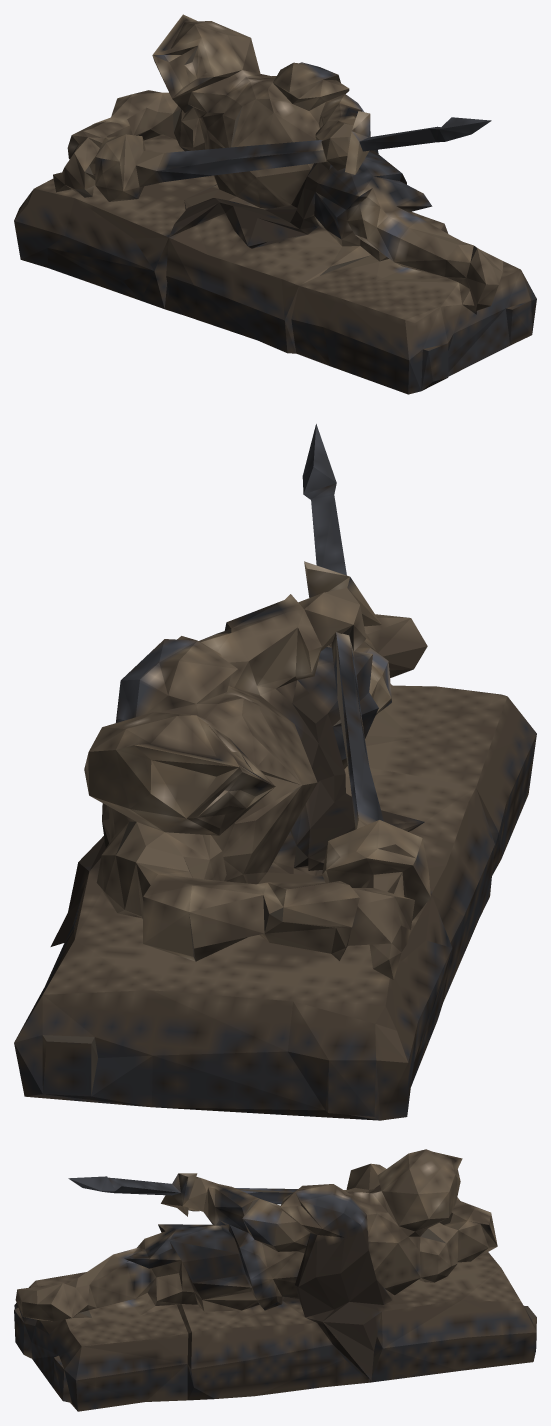
Rendered from SM_MeshyEffigy.fbx.
The picture shows the model from 3 angles, top to bottom: view 1: azimuth 30°, elevation 25°; view 2: azimuth 150°, elevation 25°; view 3: azimuth 270°, elevation 25°; orthographic projection. The views are drawn at different scales.
Parts seen in each view (by area): view 1: SM_MeshyEffigy; view 2: SM_MeshyEffigy; view 3: SM_MeshyEffigy.
Boxes of the visible parts, <box> form: SM_MeshyEffigy: <box>14,14,536,394</box>; SM_MeshyEffigy: <box>14,424,536,1120</box>; SM_MeshyEffigy: <box>14,1149,536,1411</box>.
Size of the model in its own units: 1.3 by 0.9012 by 2.
1 material, 1 textured.
